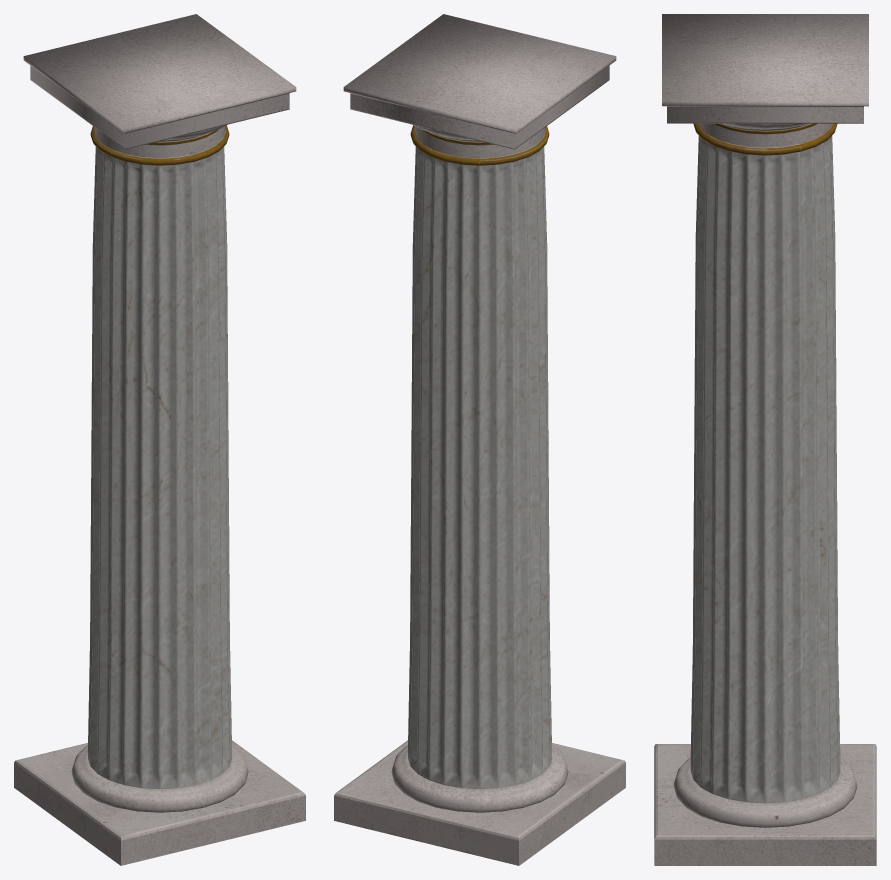
The picture shows the model from 3 angles, left to right: view 1: azimuth 30°, elevation 25°; view 2: azimuth 150°, elevation 25°; view 3: azimuth 270°, elevation 25°; orthographic projection. The views are drawn at different scales.
Visible parts, largest first — view 1: Colonne_Marbre_Bake; view 2: Colonne_Marbre_Bake; view 3: Colonne_Marbre_Bake.
Part boxes in pixels (box(x1,y1,x2,y2)): Colonne_Marbre_Bake: box(14, 14, 305, 865); Colonne_Marbre_Bake: box(334, 14, 625, 865); Colonne_Marbre_Bake: box(654, 14, 876, 865).
Bounding box in the file's own units: 0.6335 × 2.4 × 0.6335.
Materials: 1 (1 with a texture image).
